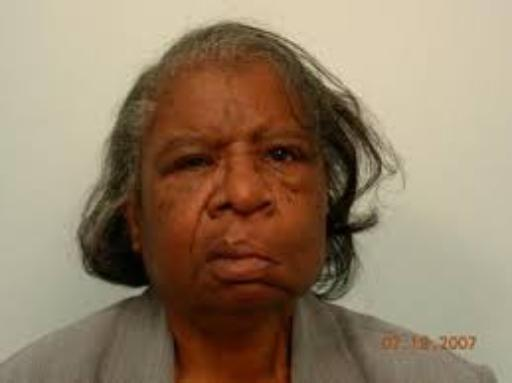left_eye: (263, 147, 301, 166)
left_lip_corner: (262, 255, 288, 271)
right_eye: (169, 153, 220, 174)
right_lip_corner: (199, 254, 218, 269)
